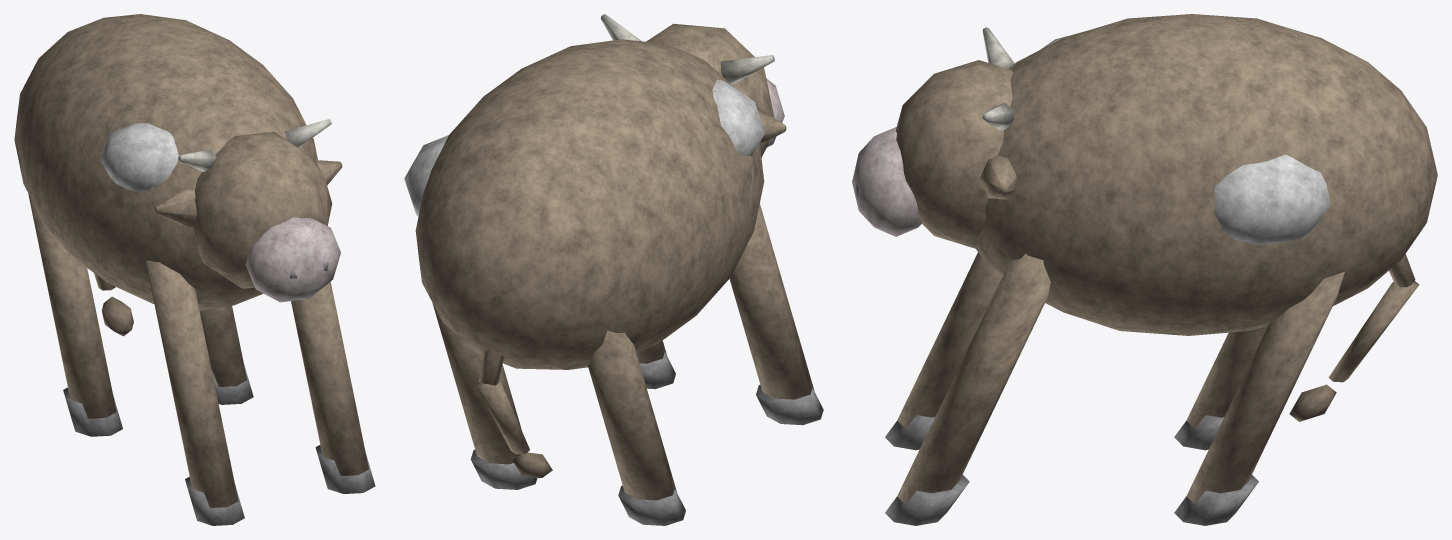
Rendered from mob_sapi_walk1.obj.
3 renders of one model, left to right at view 1: azimuth 30°, elevation 25°; view 2: azimuth 150°, elevation 25°; view 3: azimuth 270°, elevation 25°, orthographic. The views are drawn at different scales.
Visible parts, largest first — view 1: mob_sapi_walk1; view 2: mob_sapi_walk1; view 3: mob_sapi_walk1.
Boxes of the visible parts, bbox=[...] form: mob_sapi_walk1: bbox=[14, 14, 375, 525]; mob_sapi_walk1: bbox=[404, 14, 823, 525]; mob_sapi_walk1: bbox=[852, 14, 1437, 525].
Bounding box in the file's own units: 1.05 × 1.58 × 1.87.
Materials: 1 (1 with a texture image).
